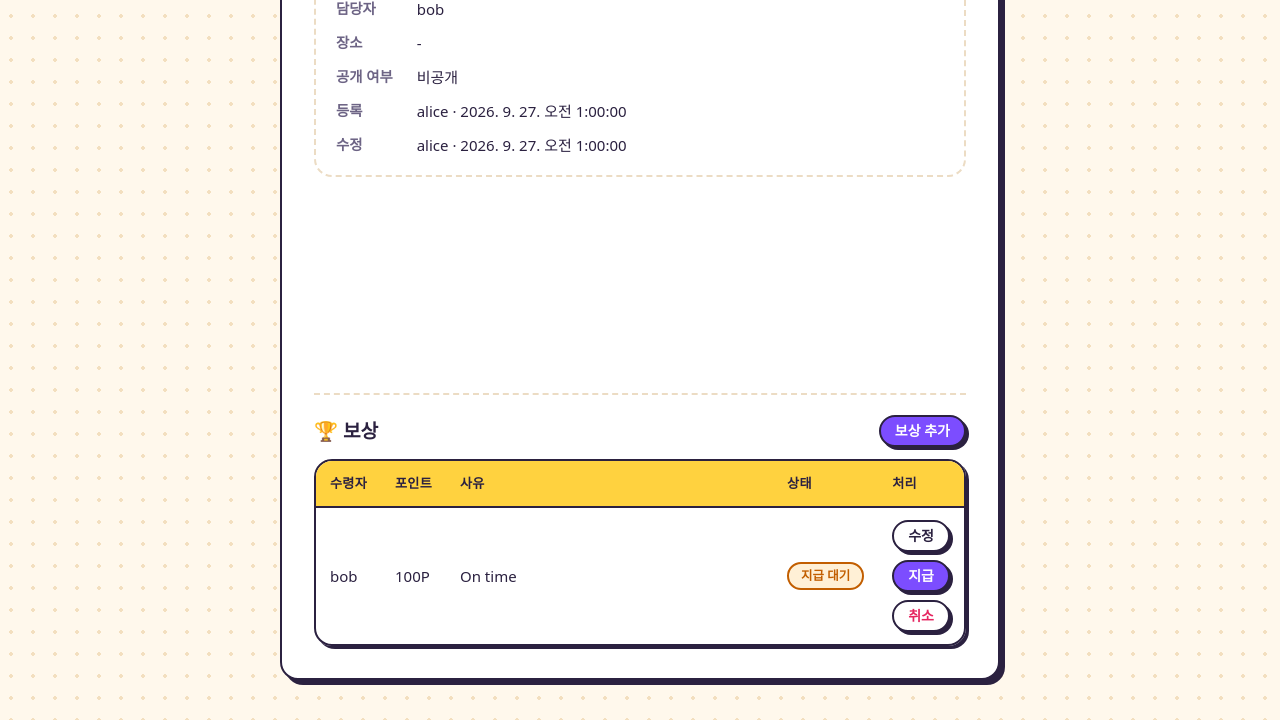
rewards › schedule detail section › explains server refusals
The width and height of the screenshot is (1280, 720).
(page scrolled)
Click the button with aria-label "bob 보상 지급": [921, 576] box [892,560,950,592]
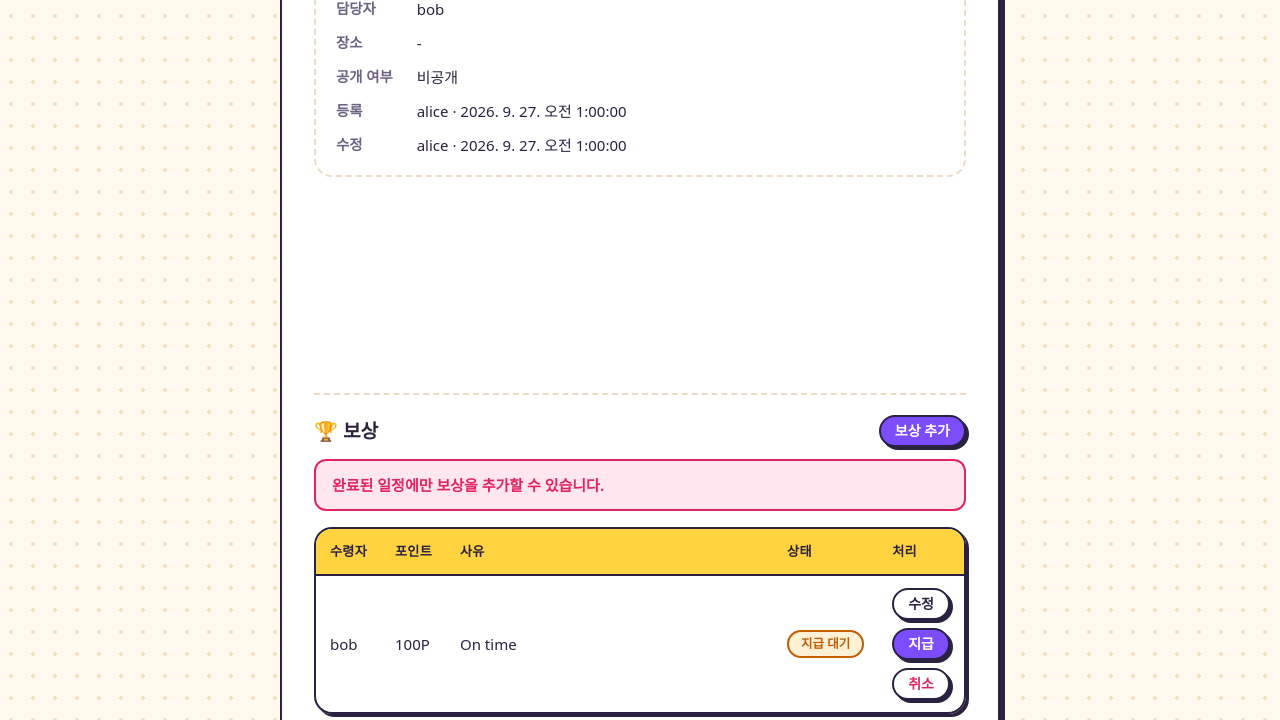
Result: the text "완료된 일정에만 보상을 추가할 수 있습니다." is shown at [314,459,966,511]
